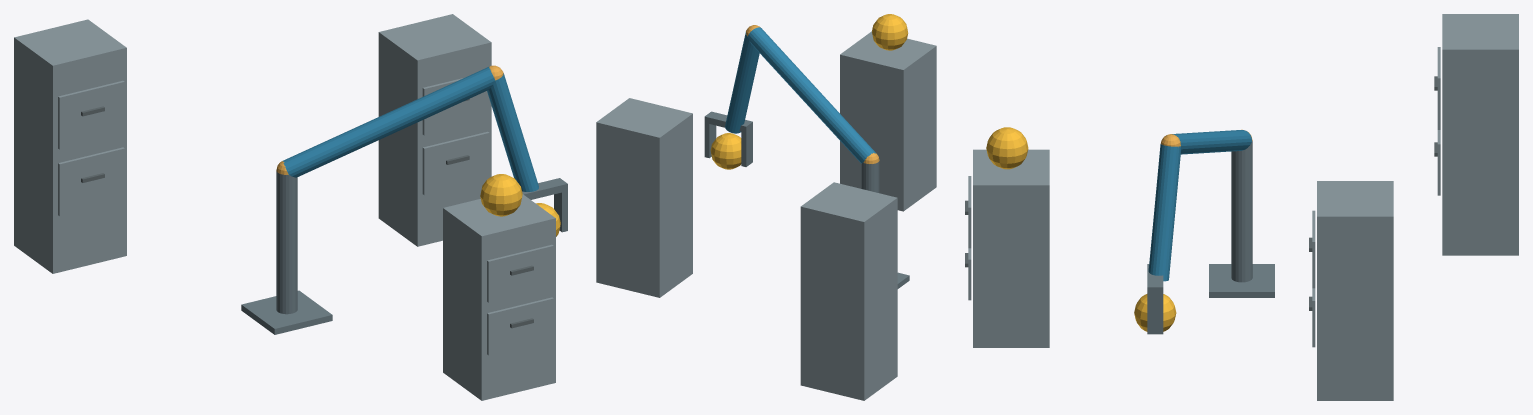
The picture shows the model from 3 angles, left to right: view 1: azimuth 30°, elevation 25°; view 2: azimuth 150°, elevation 25°; view 3: azimuth 270°, elevation 25°; orthographic projection. The views are drawn at different scales.
Parts seen in each view (by area): view 1: cabinet_3 body, cabinet_1 body, cabinet_2 body, moving link 1, cabinet_3 drawer front.001, cabinet_3 drawer front, cabinet_2 drawer front, fixed post, cabinet_1 drawer front, cabinet_1 drawer front.001, moving link 2, pedestal (+3 smaller); view 2: cabinet_3 body, cabinet_2 body, cabinet_1 body, moving link 1, moving link 2, released ball_1, ball ball_2, fixed post, gripper finger -1, gripper bridge, gripper finger 1; view 3: cabinet_3 body, cabinet_2 body, cabinet_1 body, fixed post, moving link 2, pedestal, moving link 1, released ball_1, ball ball_2, gripper finger 1.
Part boxes in pixels (left/top/right/bottom): cabinet_3 body: left=14, top=19, right=126, bottom=273; cabinet_1 body: left=443, top=194, right=555, bottom=400; cabinet_2 body: left=378, top=14, right=491, bottom=246; moving link 1: left=283, top=67, right=495, bottom=177; cabinet_3 drawer front.001: left=58, top=80, right=124, bottom=149; cabinet_3 drawer front: left=58, top=147, right=124, bottom=216; cabinet_2 drawer front: left=422, top=131, right=489, bottom=195; fixed post: left=276, top=171, right=297, bottom=314; cabinet_1 drawer front: left=487, top=297, right=553, bottom=355; cabinet_1 drawer front.001: left=487, top=244, right=553, bottom=302; moving link 2: left=487, top=73, right=538, bottom=191; pedestal: left=241, top=290, right=332, bottom=334; cabinet_3 body: left=800, top=182, right=897, bottom=400; cabinet_2 body: left=596, top=98, right=692, bottom=297; cabinet_1 body: left=840, top=31, right=936, bottom=211; moving link 1: left=747, top=27, right=876, bottom=163; moving link 2: left=725, top=32, right=759, bottom=133; released ball_1: left=872, top=14, right=908, bottom=50; ball ball_2: left=710, top=133, right=741, bottom=169; fixed post: left=861, top=161, right=879, bottom=193; gripper finger -1: left=741, top=128, right=752, bottom=166; gripper bridge: left=704, top=111, right=752, bottom=132; gripper finger 1: left=704, top=123, right=716, bottom=158; cabinet_3 body: left=1442, top=14, right=1518, bottom=255; cabinet_2 body: left=1317, top=181, right=1393, bottom=400; cabinet_1 body: left=973, top=149, right=1049, bottom=347; fixed post: left=1231, top=140, right=1252, bottom=282; moving link 2: left=1148, top=144, right=1181, bottom=281; pedestal: left=1209, top=264, right=1274, bottom=297; moving link 1: left=1172, top=130, right=1251, bottom=154; released ball_1: left=986, top=127, right=1028, bottom=169; ball ball_2: left=1134, top=294, right=1176, bottom=331; gripper finger 1: left=1147, top=294, right=1163, bottom=334.
Bounding box in the file's own units: 1.62 × 0.966 × 2.1.
